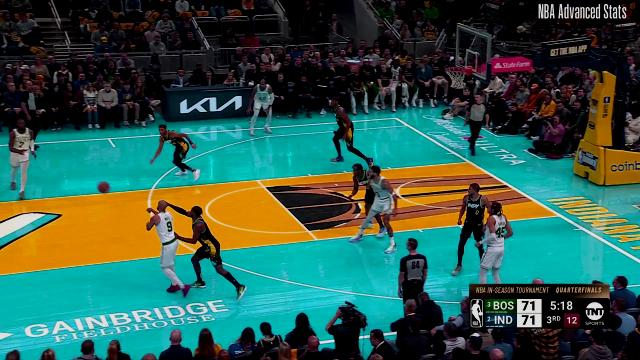3_sx: (402, 121, 414, 134)
b_sx: (386, 112, 402, 122)
free_adx: (311, 236, 325, 244)
free_asx: (252, 174, 264, 185)
free_bdx: (554, 209, 566, 221)
free_bsx: (462, 154, 474, 170)
mid_sx: (104, 134, 114, 144)
referee: (396, 239, 430, 321), (463, 90, 489, 156)
team: (144, 199, 192, 299), (357, 168, 397, 256), (477, 202, 515, 286), (6, 118, 36, 202), (247, 78, 276, 136)
team1: (168, 202, 248, 298), (451, 182, 491, 274), (328, 96, 374, 168), (347, 162, 388, 238), (151, 124, 201, 180)
timer: (548, 296, 576, 312)
